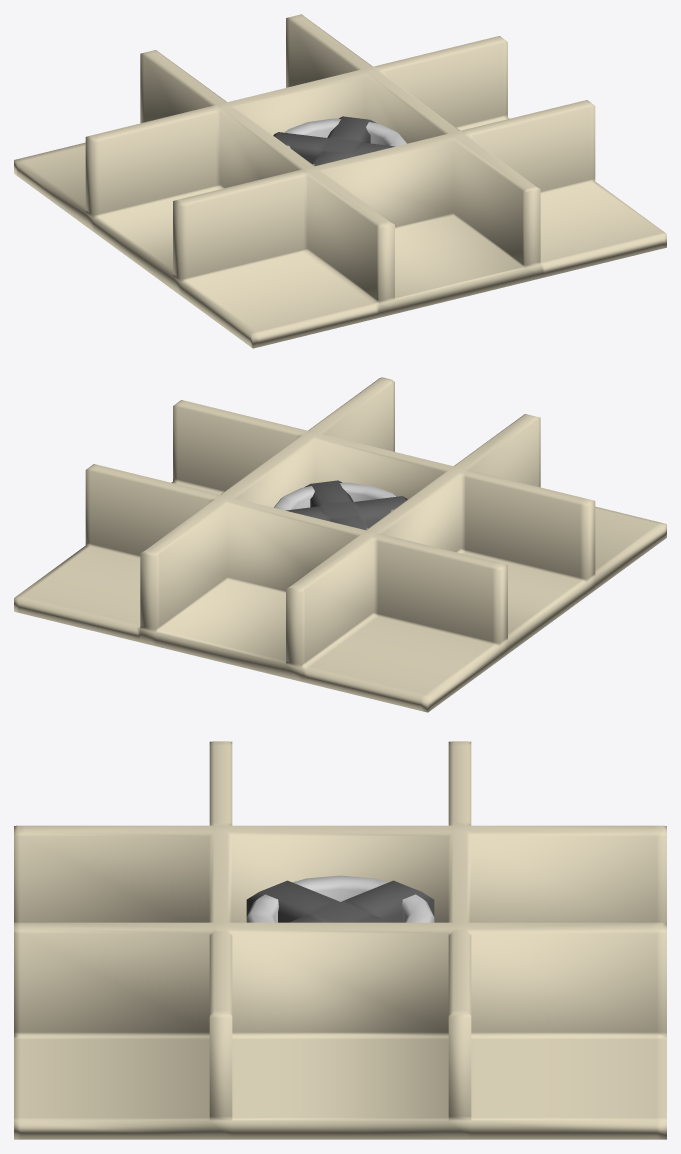
The model's file is tateti.dae.
3 renders of one model, top to bottom at view 1: azimuth 30°, elevation 25°; view 2: azimuth 150°, elevation 25°; view 3: azimuth 270°, elevation 25°, orthographic. The views are drawn at different scales.
Visible parts, largest first — view 1: tablero, cross, Circle; view 2: tablero, cross, Circle; view 3: tablero, cross, Circle.
Part boxes in pixels (left/top/right/bottom): tablero: left=14, top=14, right=666, bottom=348; cross: left=273, top=116, right=394, bottom=165; Circle: left=285, top=118, right=406, bottom=165; tablero: left=14, top=377, right=666, bottom=712; cross: left=286, top=480, right=407, bottom=530; Circle: left=274, top=482, right=395, bottom=529; tablero: left=14, top=741, right=666, bottom=1139; cross: left=246, top=880, right=434, bottom=922; Circle: left=246, top=875, right=434, bottom=922.
Size of the model in its own units: 3.5 by 3.5 by 0.735.
